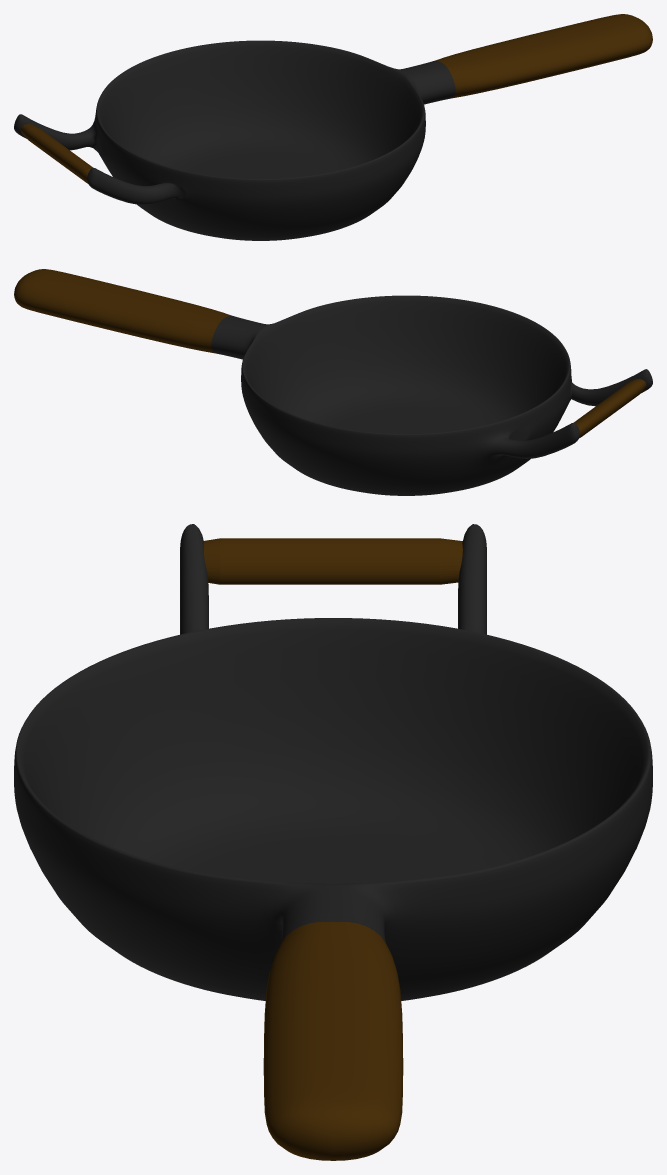
File: wok.fbx
The picture shows the model from 3 angles, top to bottom: view 1: azimuth 30°, elevation 25°; view 2: azimuth 150°, elevation 25°; view 3: azimuth 270°, elevation 25°; orthographic projection. The views are drawn at different scales.
Parts seen in each view (by area): view 1: Cylinder.001; view 2: Cylinder.001; view 3: Cylinder.001.
Boxes of the visible parts, <box> form: Cylinder.001: <box>14,14,652,240</box>; Cylinder.001: <box>14,269,652,495</box>; Cylinder.001: <box>14,524,652,1160</box>.
Size of the model in its own units: 774 by 129 by 372.
